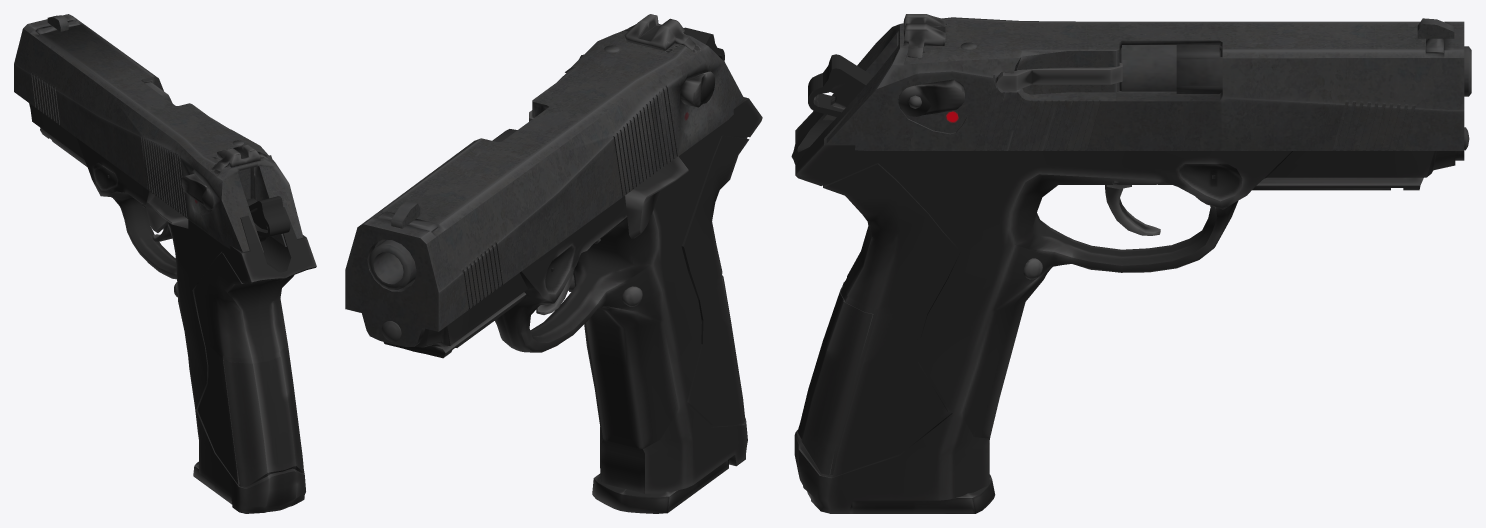
3 renders of one model, left to right at view 1: azimuth 30°, elevation 25°; view 2: azimuth 150°, elevation 25°; view 3: azimuth 270°, elevation 25°, orthographic. The views are drawn at different scales.
Visible parts, largest first — view 1: Flame, Slide, Hammer, Slidestop, safety; view 2: Flame, Slide, magazine, BARREL, Slidestop, safety; view 3: Flame, Slide, BARREL, Hammer, magazine, safety, Trigger.
Part boxes in pixels (x1,y1,x2,y2): Flame: [29, 103, 316, 513]; Slide: [14, 14, 303, 252]; Hammer: [246, 196, 290, 242]; Slidestop: [146, 191, 188, 232]; safety: [181, 155, 272, 210]; Flame: [383, 97, 762, 493]; Slide: [345, 14, 743, 346]; magazine: [592, 459, 728, 513]; BARREL: [368, 129, 517, 341]; Slidestop: [625, 156, 688, 238]; safety: [579, 54, 714, 107]; Flame: [791, 95, 1455, 513]; Slide: [822, 14, 1464, 160]; BARREL: [1119, 45, 1471, 150]; Hammer: [808, 54, 873, 116]; magazine: [849, 474, 995, 513]; safety: [898, 79, 964, 116]; Trigger: [1105, 185, 1160, 235].
Size of the model in its own units: 4.09 by 14.79 by 19.21.
